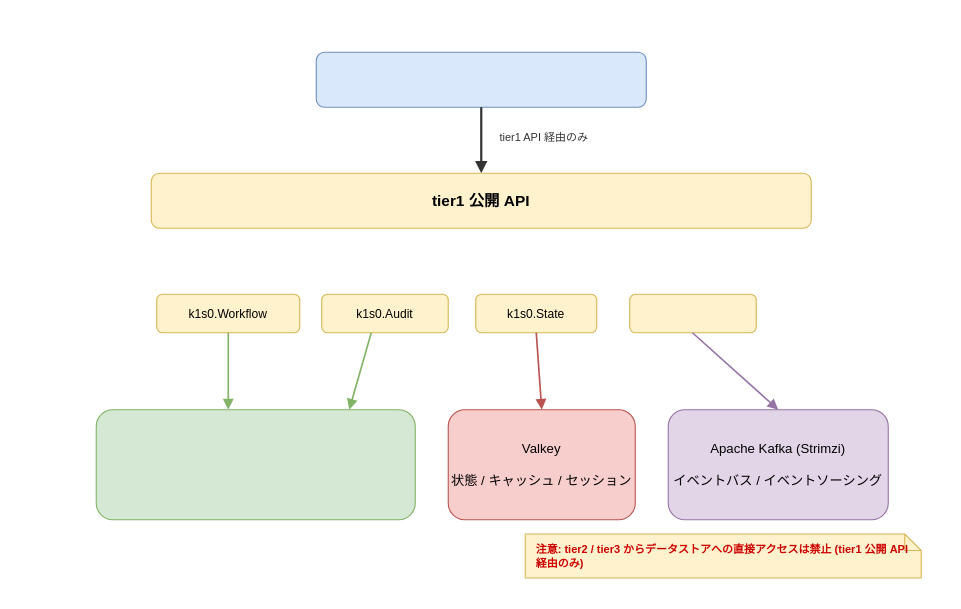
Some shapes in this 961 by 609 pixel diagram are drawn without their labels. The box of each missing label's shape, as (x1, y1, x2, y2) in pixels:
k1s0.PubSub: (629, 293, 756, 333)
PostgreSQL (CloudNativePG) 永続的業務データ / トランザクション: (95, 409, 415, 520)
tier2 / tier3 サービス群: (315, 51, 646, 107)
